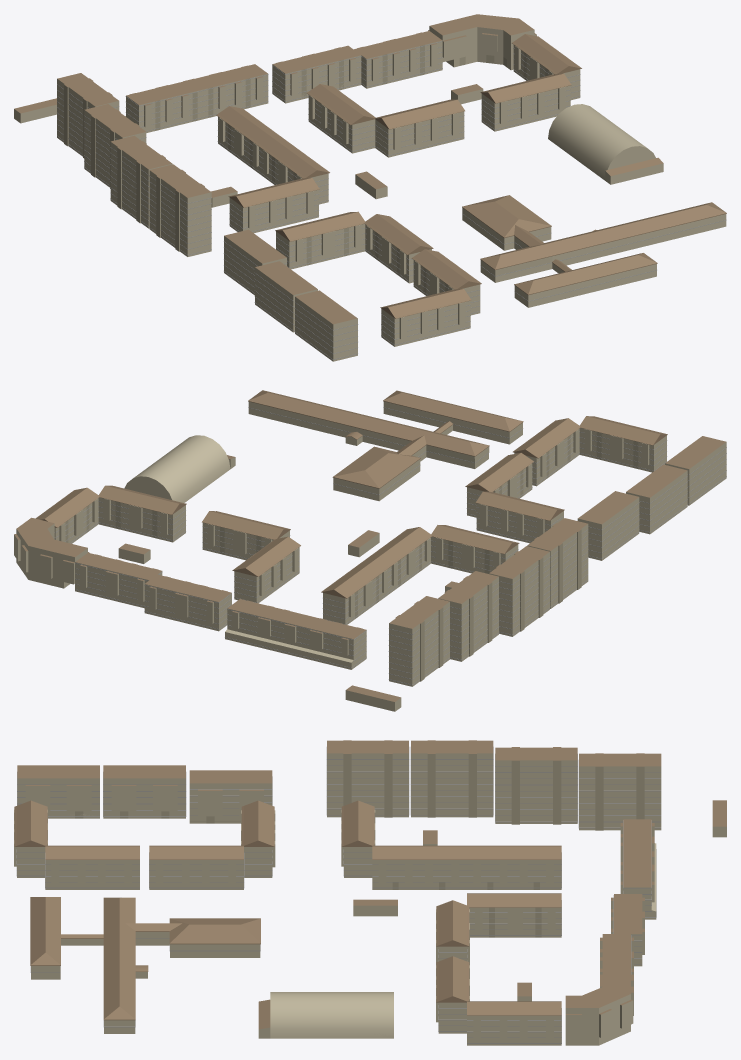
The model's file is map_buildings.fbx.
3 renders of one model, top to bottom at view 1: azimuth 30°, elevation 25°; view 2: azimuth 150°, elevation 25°; view 3: azimuth 270°, elevation 25°, orthographic. The views are drawn at different scales.
Parts seen in each view (by area): view 1: school_42, h24, h27_1, football, h16A, h32, h19, h18, h21, h30, h23, h16 (+15 smaller); view 2: school_42, h24, h25, football, h27_2, h26, h32, h18, h23, h16A, h27_1, h30 (+15 smaller); view 3: school_42, h27_2, h26, h25, h27_1, football, h29_1, h31, h22_1, h17, h31_1, h22_3 (+15 smaller).
Part boxes in pixels (left/top/right/bottom): school_42: left=462, top=195, right=726, bottom=307; h24: left=125, top=64, right=268, bottom=132; h27_1: left=149, top=164, right=211, bottom=256; football: left=548, top=104, right=655, bottom=180; h16A: left=428, top=14, right=536, bottom=70; h32: left=380, top=289, right=471, bottom=346; h19: left=375, top=99, right=464, bottom=157; h18: left=480, top=73, right=571, bottom=131; h21: left=228, top=178, right=319, bottom=232; h30: left=275, top=211, right=365, bottom=269; h23: left=272, top=45, right=361, bottom=103; h16: left=354, top=31, right=442, bottom=88; school_42: left=248, top=390, right=523, bottom=500; h24: left=225, top=599, right=366, bottom=669; h25: left=388, top=596, right=449, bottom=686; football: left=124, top=435, right=230, bottom=502; h27_2: left=489, top=546, right=550, bottom=636; h26: left=438, top=571, right=499, bottom=661; h32: left=579, top=416, right=667, bottom=472; h18: left=98, top=485, right=186, bottom=542; h23: left=144, top=574, right=231, bottom=631; h16A: left=14, top=517, right=89, bottom=588; h27_1: left=527, top=518, right=588, bottom=608; h30: left=475, top=491, right=564, bottom=543; school_42: left=30, top=897, right=260, bottom=1033; h27_2: left=410, top=740, right=493, bottom=817; h26: left=495, top=747, right=577, bottom=824; h25: left=578, top=753, right=661, bottom=830; h27_1: left=326, top=740, right=409, bottom=817; football: left=270, top=992, right=393, bottom=1038; h29_1: left=103, top=765, right=186, bottom=818; h31: left=149, top=845, right=244, bottom=889; h22_1: left=467, top=845, right=561, bottom=889; h17: left=467, top=1001, right=561, bottom=1045; h31_1: left=45, top=845, right=139, bottom=889; h22_3: left=372, top=845, right=466, bottom=889.
Bounding box in the file's own units: 243 × 29.8 × 301.
